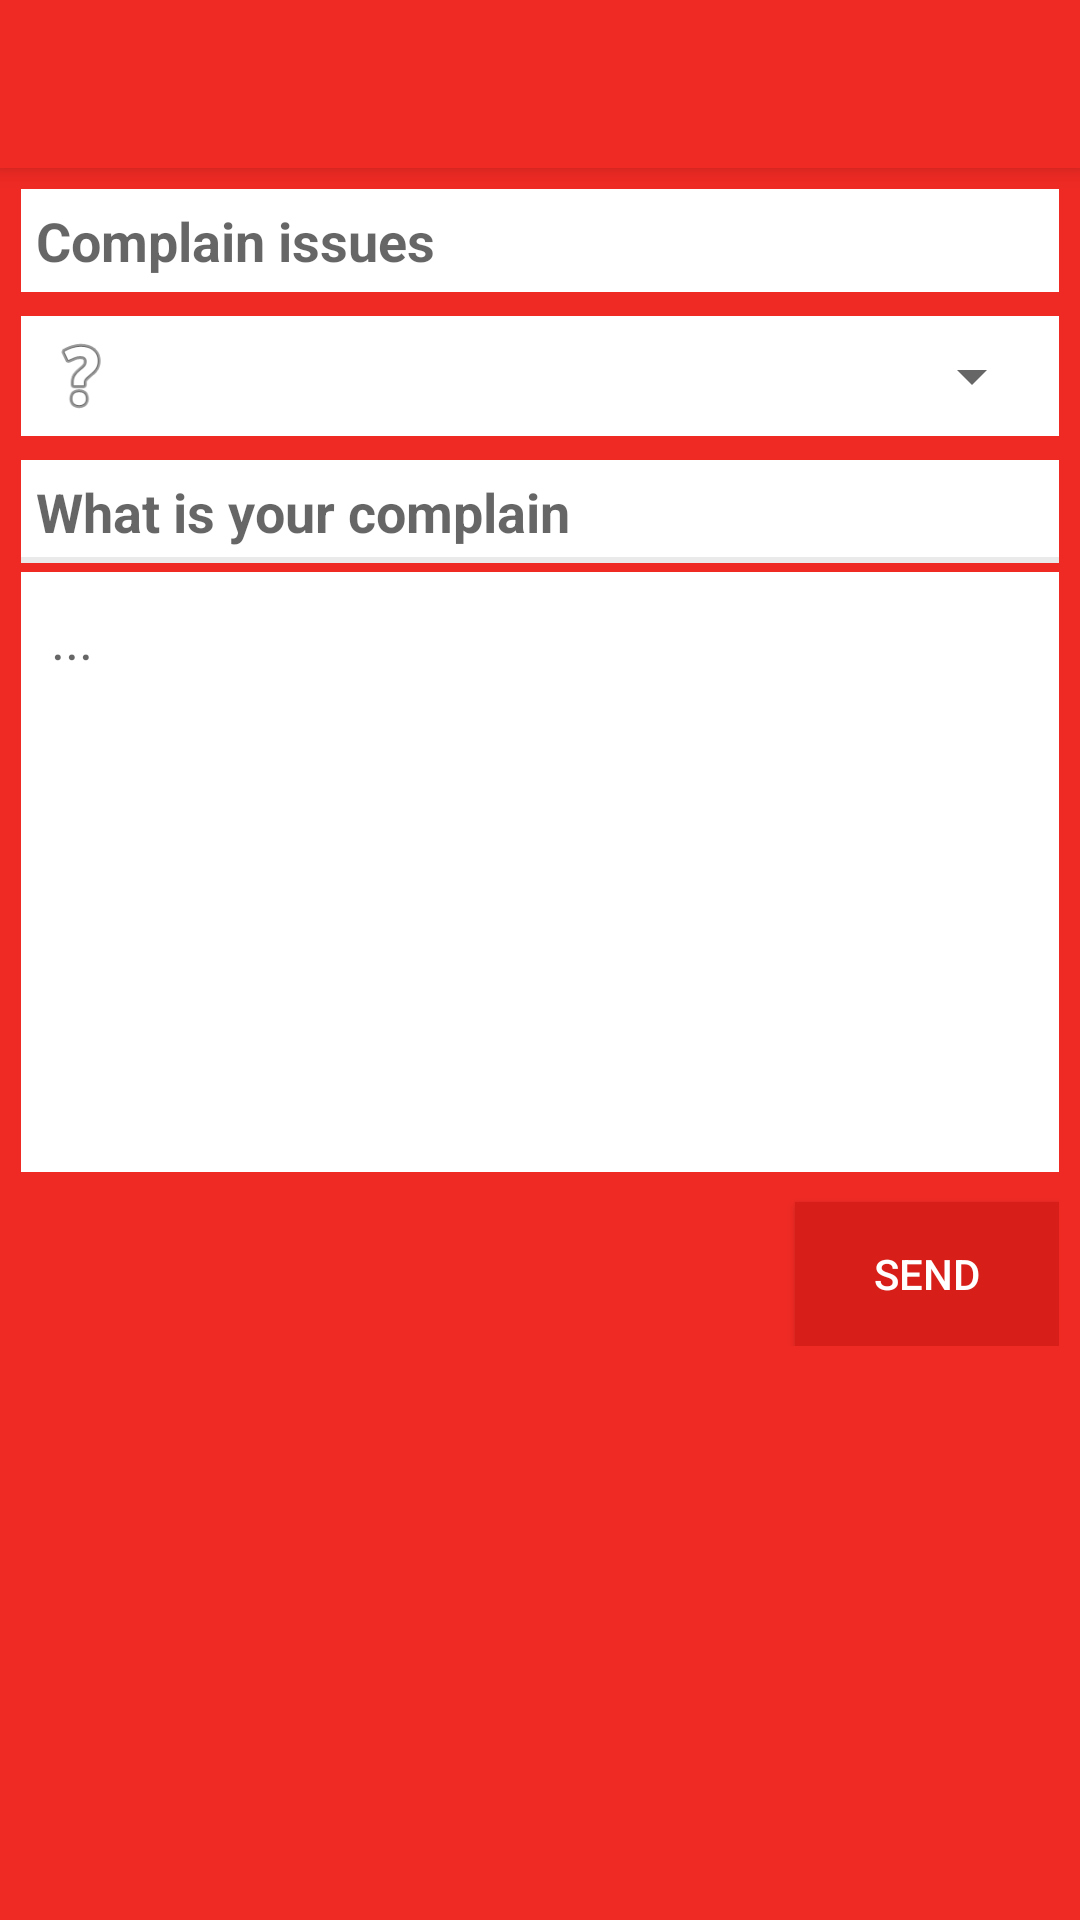

Named icons in this screenshot (1080×1920) and their bounding boxes, detection(x1, y1, x2, y2):
help: detection(61, 344, 101, 408)
